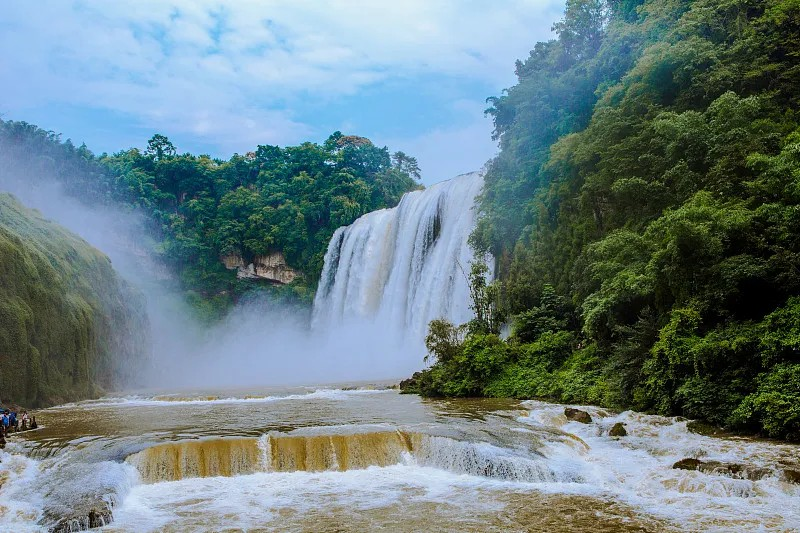Huangguoshu: (309, 167, 495, 383)
